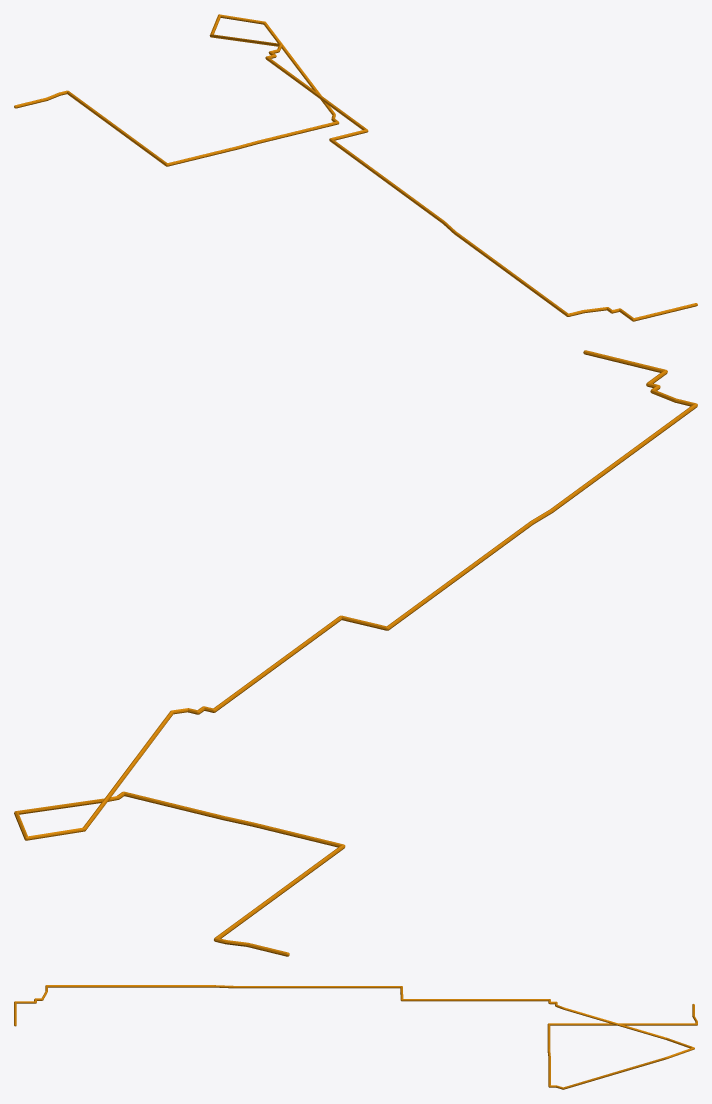
3 views of the same model, one above another, from view 1: azimuth 30°, elevation 25°; view 2: azimuth 150°, elevation 25°; view 3: azimuth 270°, elevation 25° (orthographic). The views are drawn at different scales.
Bounding box in the file's own units: 1492 × 520 × 5091.
